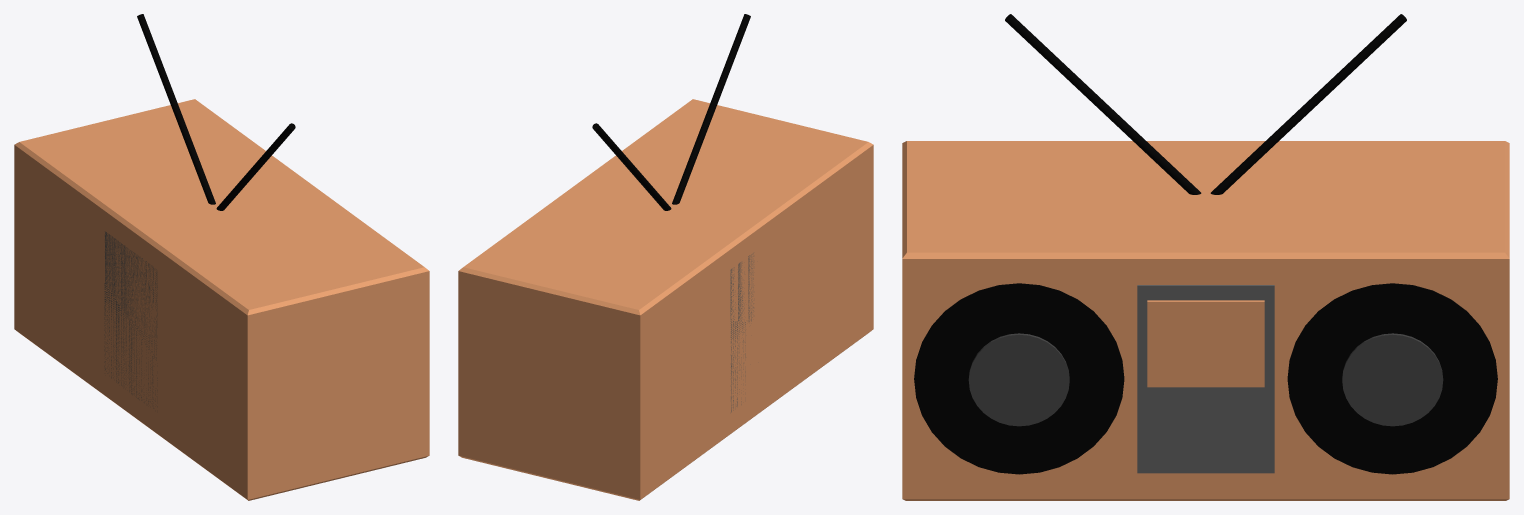
Rendered from BoomBox.fbx.
3 views of the same model, side by side, from view 1: azimuth 30°, elevation 25°; view 2: azimuth 150°, elevation 25°; view 3: azimuth 270°, elevation 25° (orthographic). The views are drawn at different scales.
Parts seen in each view (by area): view 1: Body, Details; view 2: Body, Details; view 3: Body, Details.
Boxes of the visible parts, left/top/right/bottom form: Body: left=14, top=99, right=429, bottom=500; Details: left=137, top=14, right=295, bottom=210; Body: left=458, top=99, right=873, bottom=500; Details: left=592, top=14, right=750, bottom=210; Body: left=902, top=141, right=1509, bottom=500; Details: left=914, top=14, right=1497, bottom=474.
Size of the model in its own units: 0.5951 by 1.29 by 0.9998.
